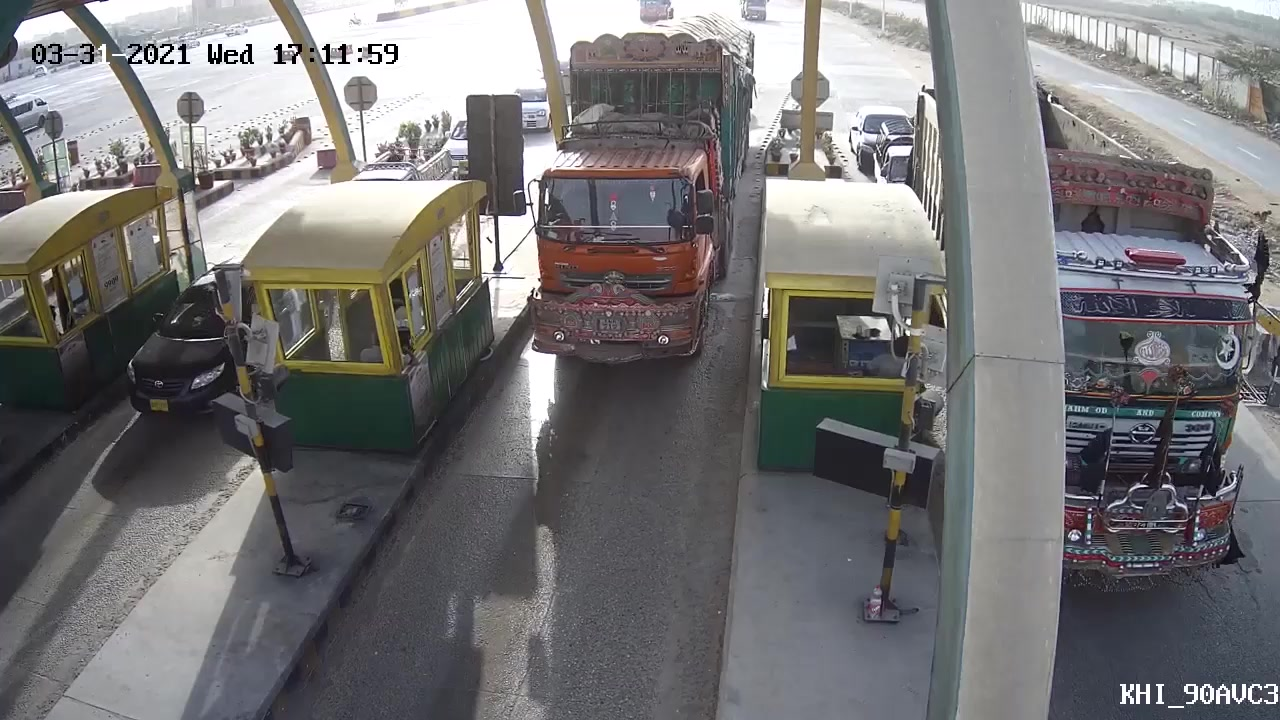F6: (527, 6, 762, 378)
